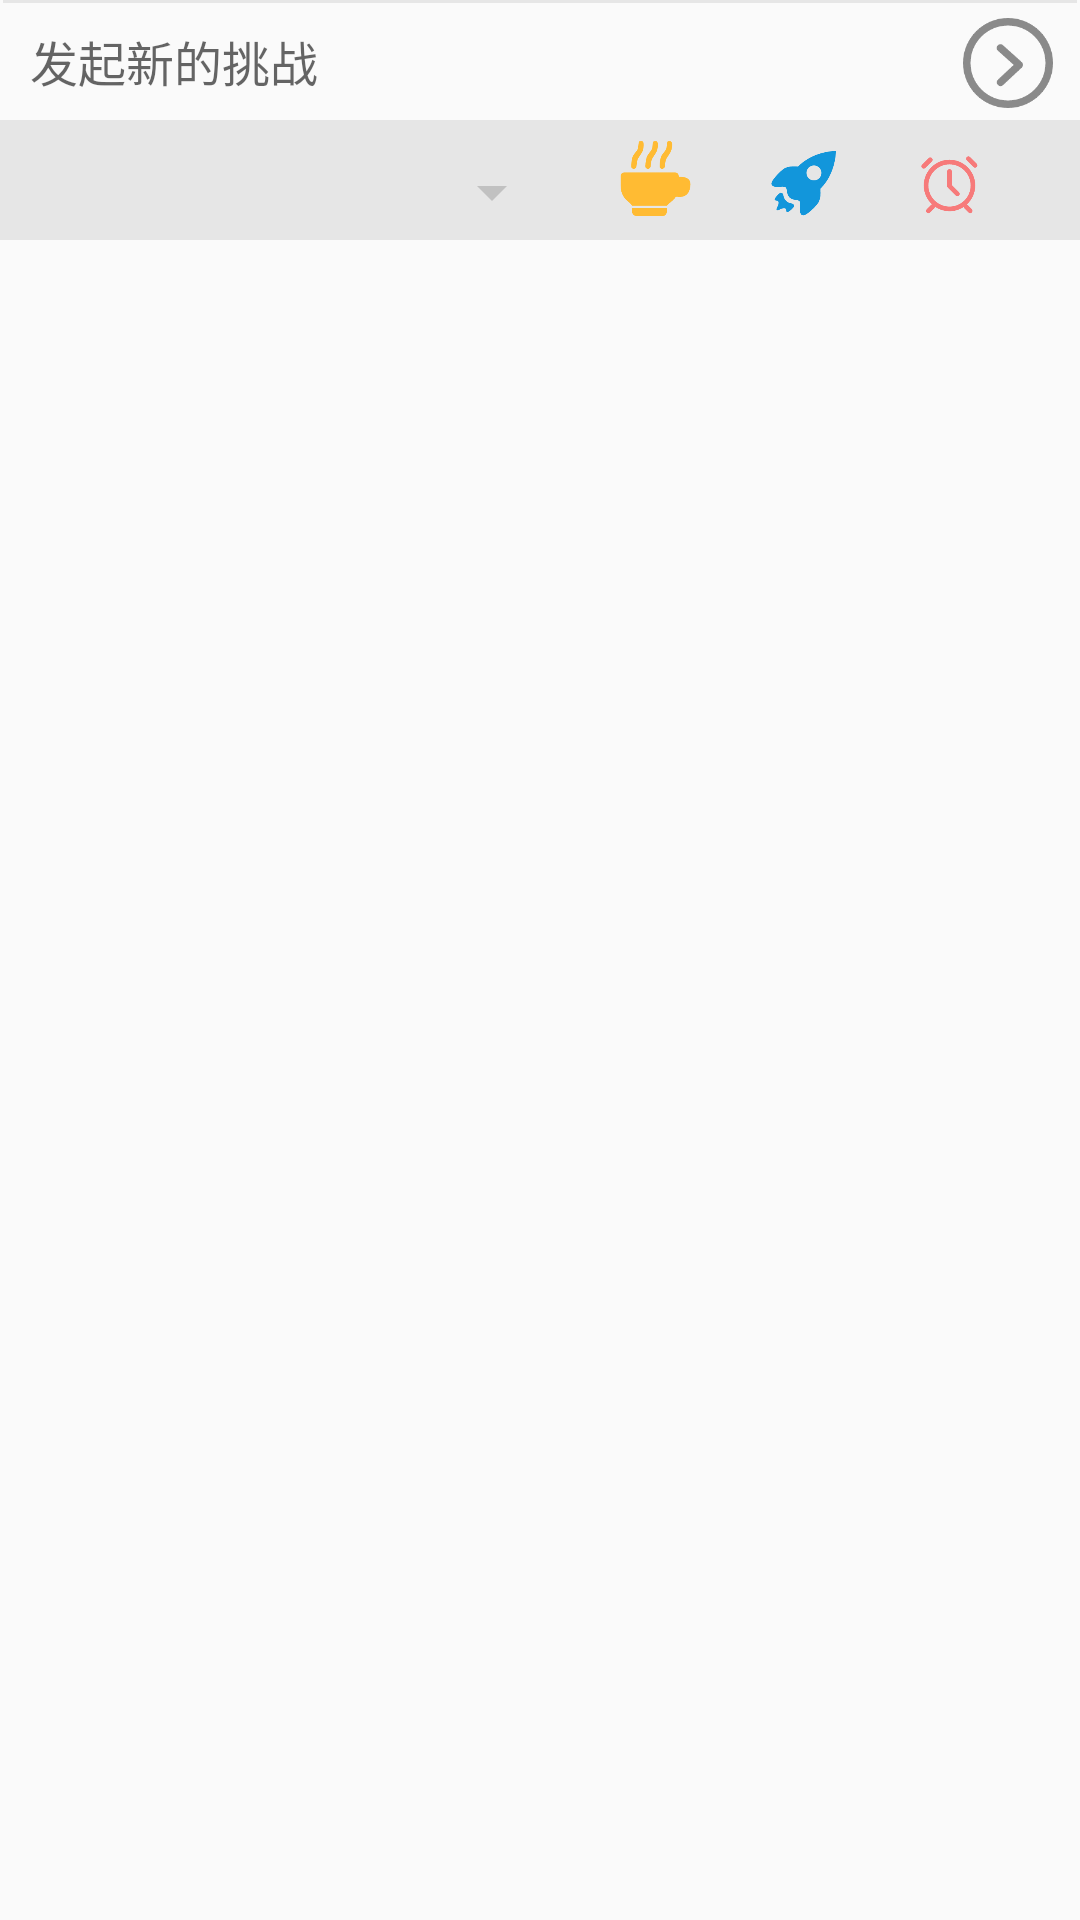

Icons on this 1080×1920 Android screen, each with the point to tap as [x,y]:
ddl: [949,184]
enter: [1008,63]
